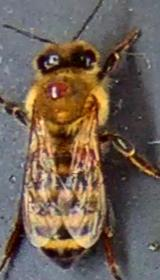varroa_mite: (32, 69, 84, 111)
